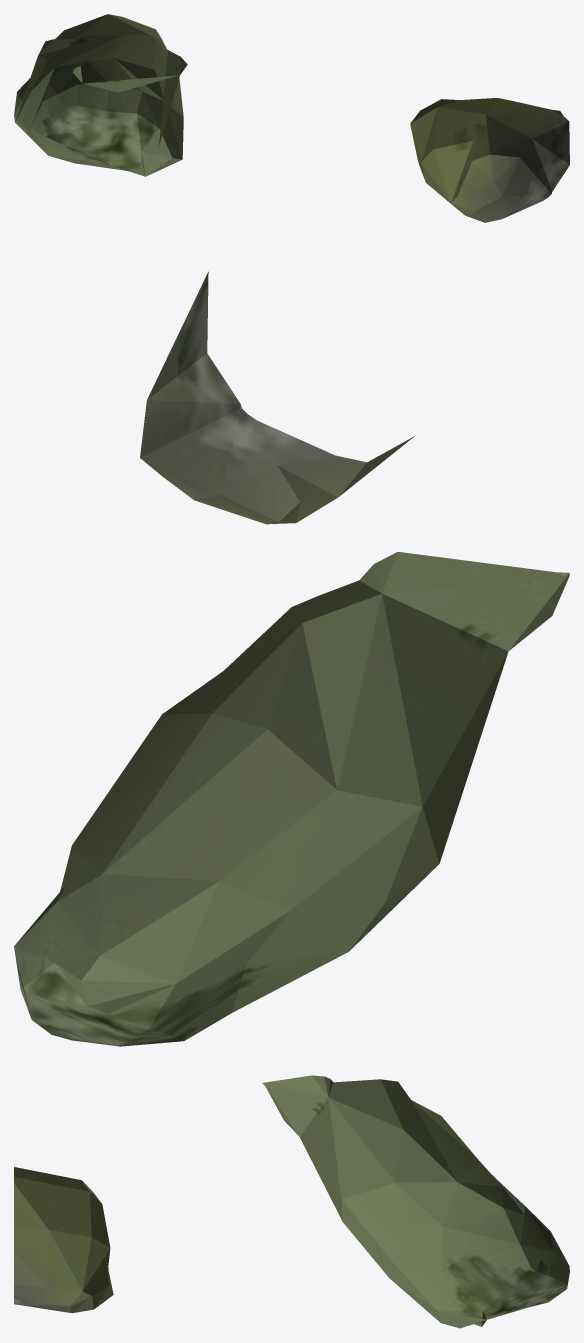
3 renders of one model, top to bottom at view 1: azimuth 30°, elevation 25°; view 2: azimuth 150°, elevation 25°; view 3: azimuth 270°, elevation 25°, orthographic. The views are drawn at different scales.
Bounding box in the file's own units: 2.68 × 1.42 × 3.97.
1 material, 1 textured.
